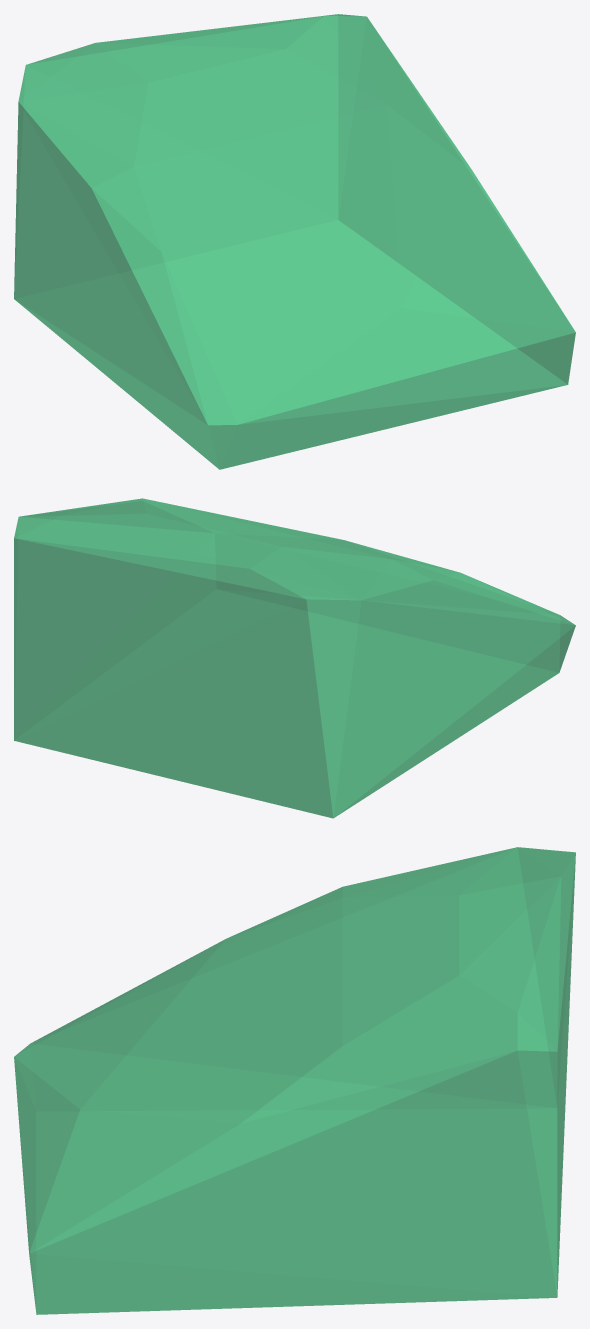
The picture shows the model from 3 angles, top to bottom: view 1: azimuth 30°, elevation 25°; view 2: azimuth 150°, elevation 25°; view 3: azimuth 270°, elevation 25°; orthographic projection. The views are drawn at different scales.
Parts seen in each view (by area): view 1: Shape_IndexedFaceSet.035_Shape_IndexedFaceSet.464; view 2: Shape_IndexedFaceSet.035_Shape_IndexedFaceSet.464; view 3: Shape_IndexedFaceSet.035_Shape_IndexedFaceSet.464.
Boxes of the visible parts, bbox=[...] form: Shape_IndexedFaceSet.035_Shape_IndexedFaceSet.464: bbox=[14, 14, 575, 469]; Shape_IndexedFaceSet.035_Shape_IndexedFaceSet.464: bbox=[14, 498, 575, 818]; Shape_IndexedFaceSet.035_Shape_IndexedFaceSet.464: bbox=[14, 847, 575, 1314].
Size of the model in its own units: 0.1475 by 0.0933 by 0.1634.
